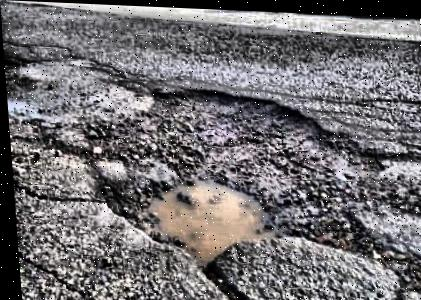pothole: (73, 77, 396, 277)
